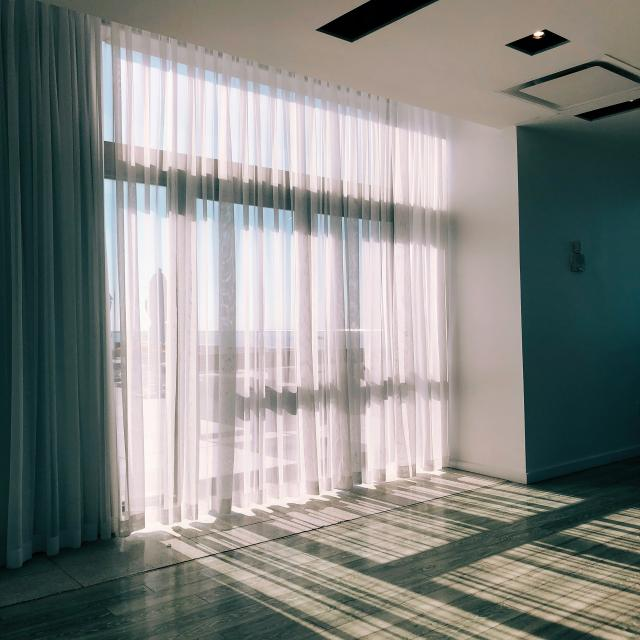floor: (0, 459, 640, 640), (159, 488, 354, 537), (347, 466, 458, 493), (352, 483, 382, 494), (349, 480, 384, 489)
